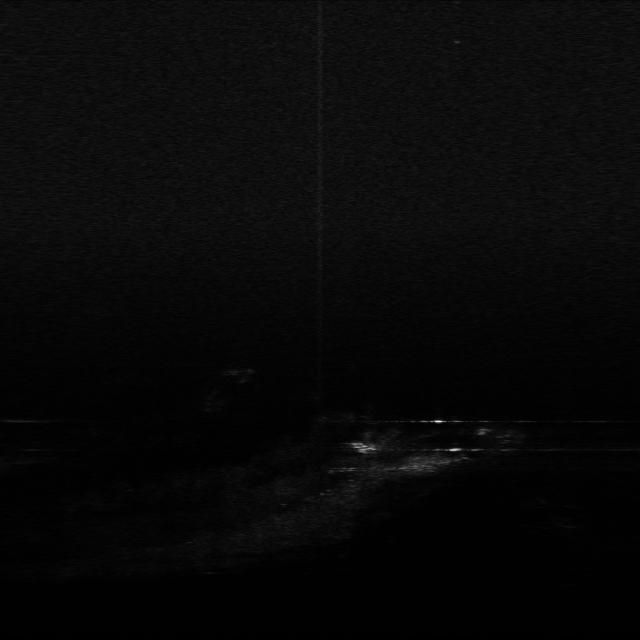rov: (348, 438, 379, 457)
